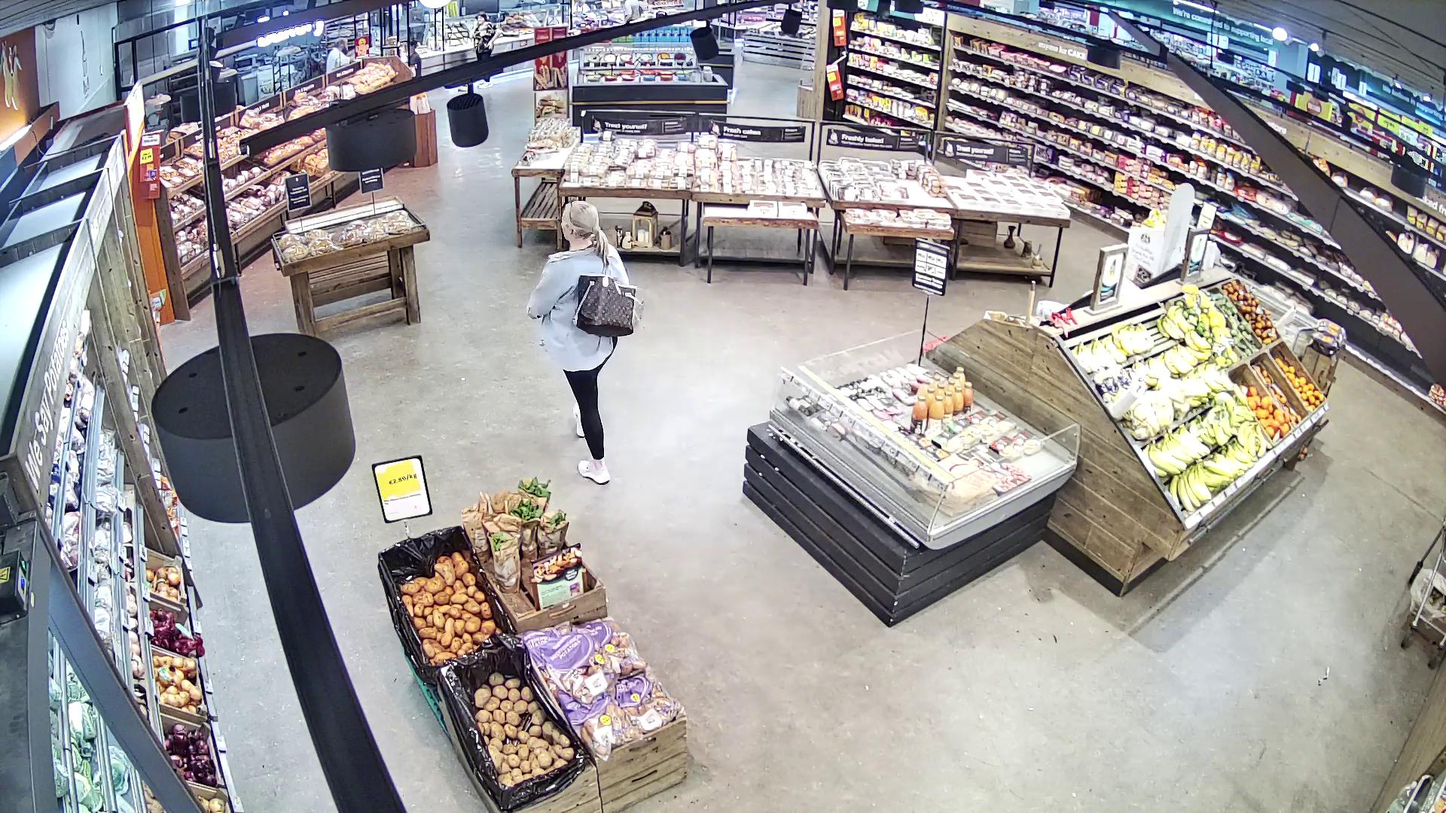backpack-or-handbag: (574, 272, 638, 337)
person: (527, 201, 630, 484)
person-with-backpack-handbag: (527, 201, 639, 485)
